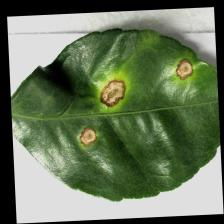canker: (49, 42, 202, 148)
